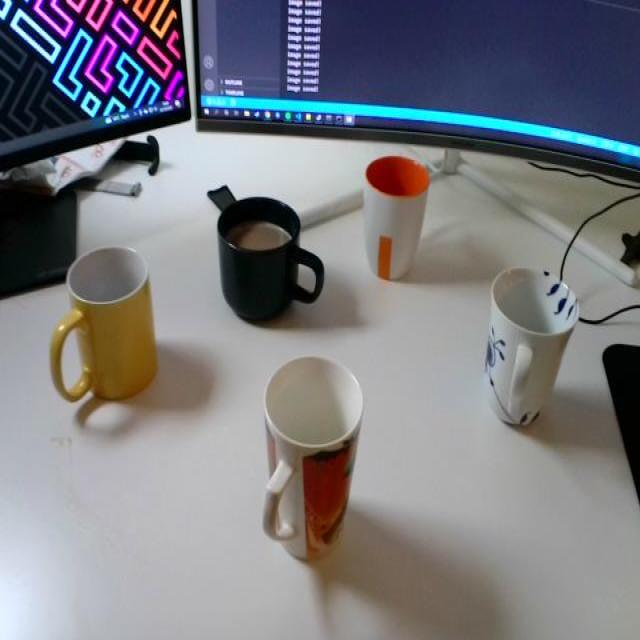cup: (41, 238, 170, 424), (250, 358, 361, 564), (475, 253, 585, 447), (208, 180, 324, 327), (354, 150, 435, 292)
